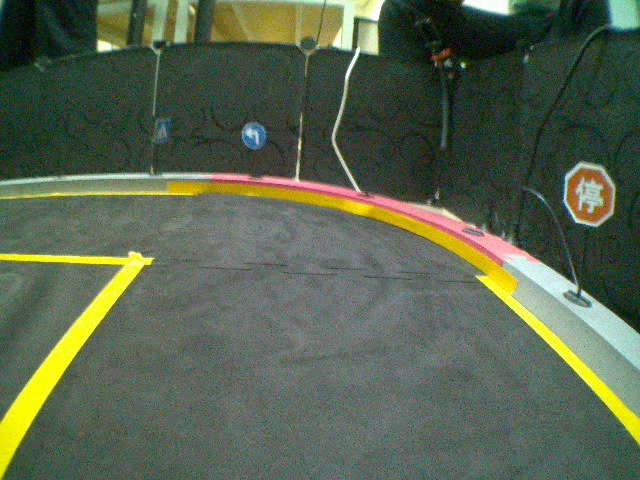Stop: (563, 160, 616, 228)
crossing: (152, 114, 173, 146)
turn: (242, 120, 268, 148)
